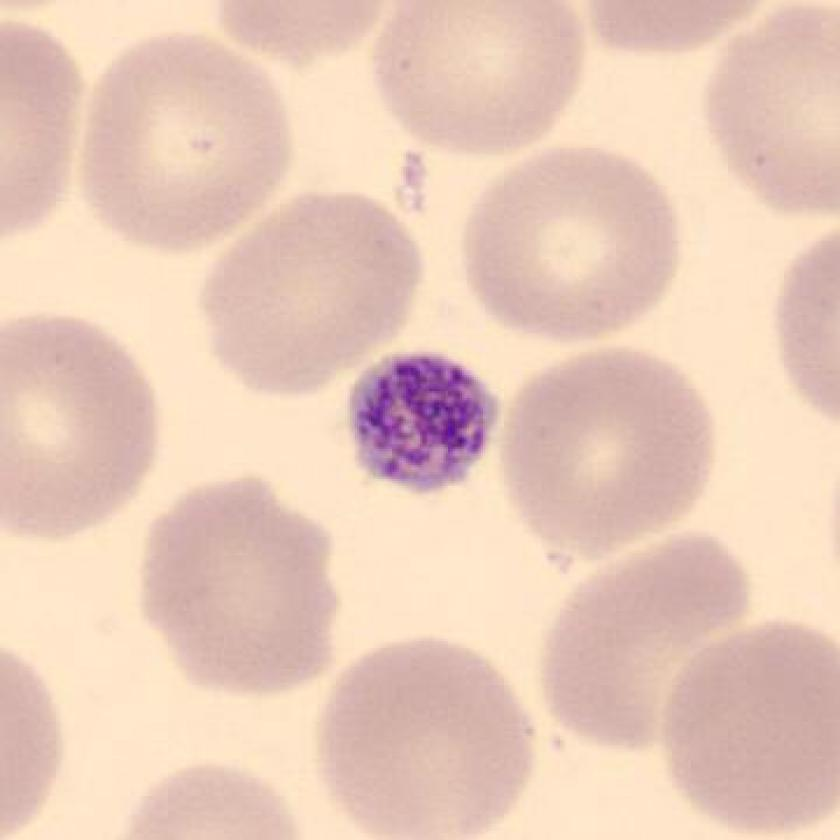platelets: (332, 342, 505, 513)
